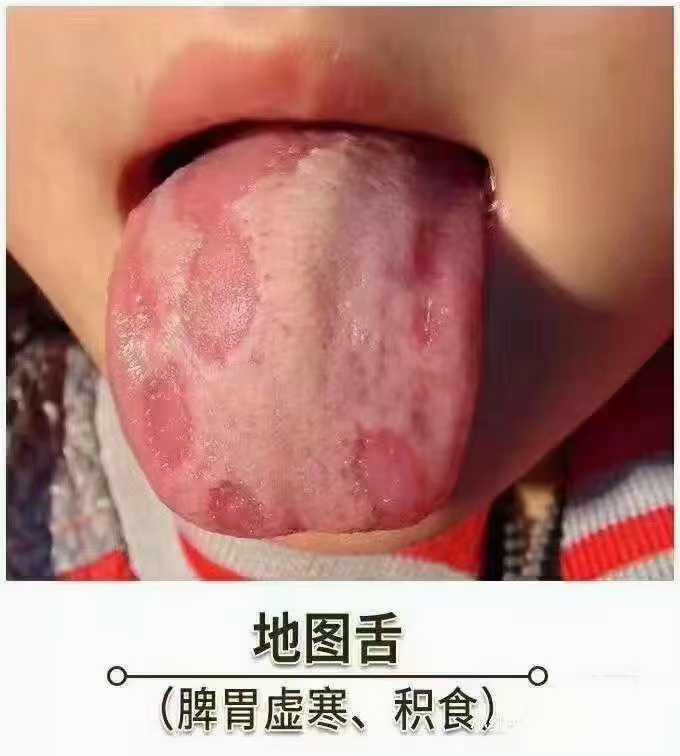baitaishe: (107, 129, 481, 538)
botaishe: (166, 134, 340, 362), (114, 256, 200, 480), (326, 419, 446, 531), (196, 474, 282, 538)
hongshe: (108, 129, 482, 538)
